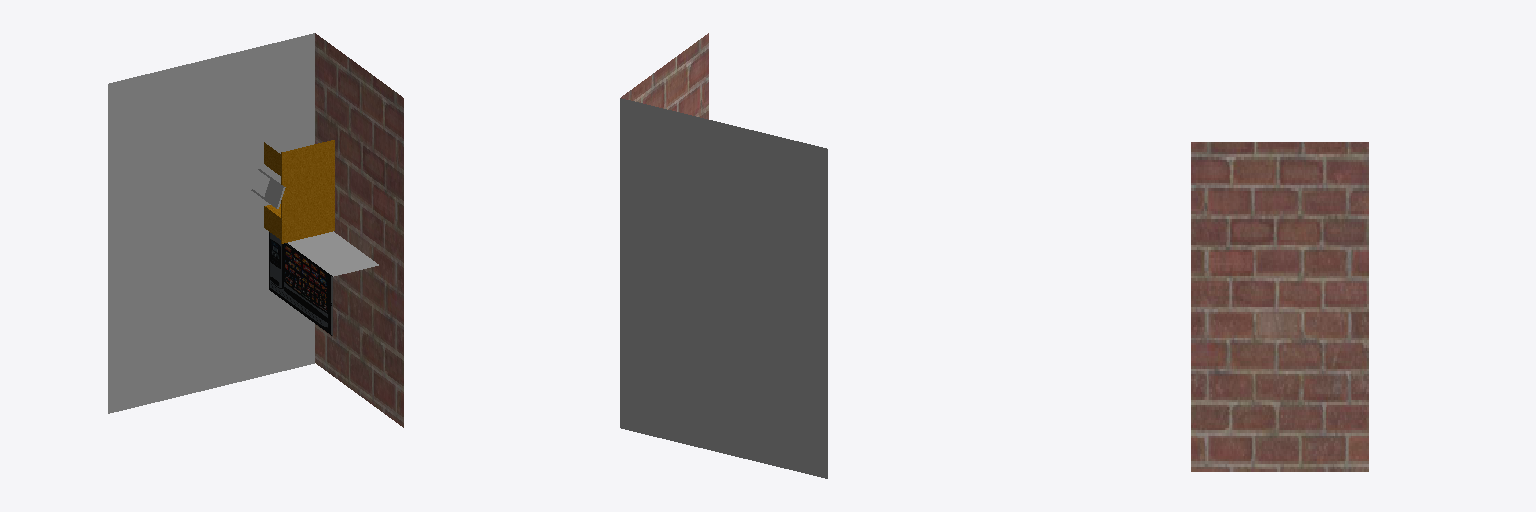
3 views of the same model, side by side, from view 1: azimuth 30°, elevation 25°; view 2: azimuth 150°, elevation 25°; view 3: azimuth 270°, elevation 25° (orthographic).
Visible parts, largest first — view 1: Cube; view 2: Cube; view 3: Cube.
Part boxes in pixels (x1,y1,x2,y2): Cube: (108,33,403,427); Cube: (620,33,827,478); Cube: (1191,142,1368,471).
Size of the model in its own units: 77.74 by 118 by 57.47.
Materials: 6 (3 with a texture image).